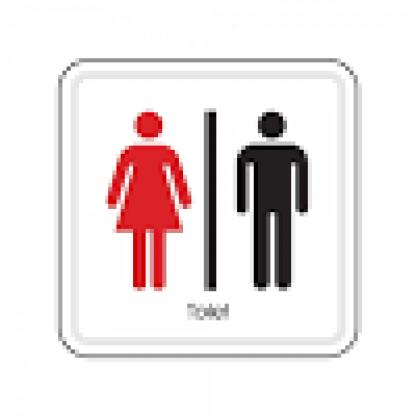toilet: (106, 104, 314, 296)
